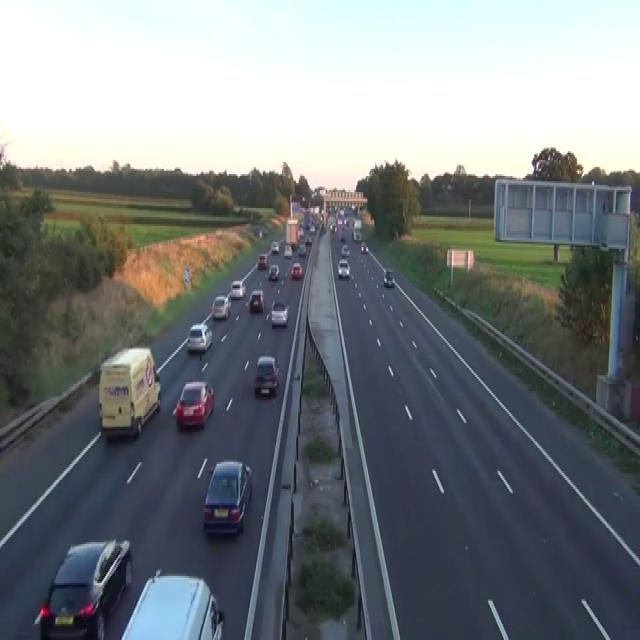Car: (33, 537, 132, 638), (120, 567, 224, 638), (202, 459, 252, 535), (175, 381, 214, 428), (253, 354, 279, 396), (187, 322, 212, 354), (270, 299, 289, 327), (211, 295, 231, 320), (248, 290, 265, 313), (229, 279, 245, 299), (337, 258, 350, 277), (290, 261, 302, 279), (383, 267, 394, 286), (268, 263, 279, 281), (257, 252, 267, 268), (341, 244, 350, 256), (284, 245, 292, 258), (360, 240, 368, 252), (271, 240, 279, 252), (298, 244, 306, 256), (353, 219, 362, 229), (329, 222, 337, 233), (305, 235, 312, 245), (342, 217, 349, 227), (308, 224, 315, 233), (321, 222, 326, 233), (339, 233, 345, 242), (298, 230, 303, 238), (337, 217, 342, 224), (259, 230, 262, 238)
Truck: (98, 345, 161, 437), (285, 217, 299, 249), (352, 218, 362, 242)
